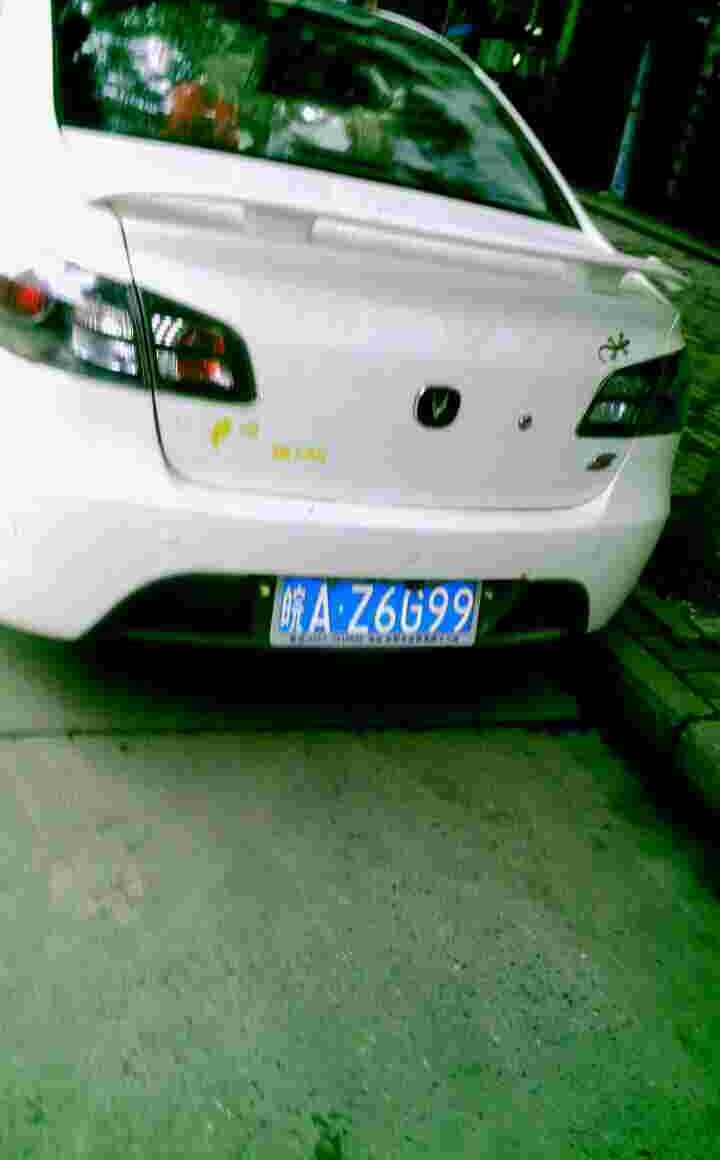license_plate: (290, 576, 479, 639)
